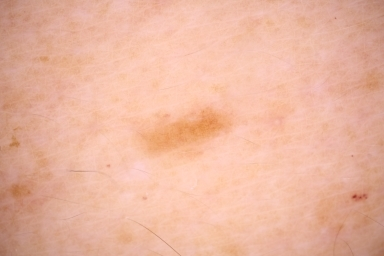nevus: (137, 105, 236, 160)
